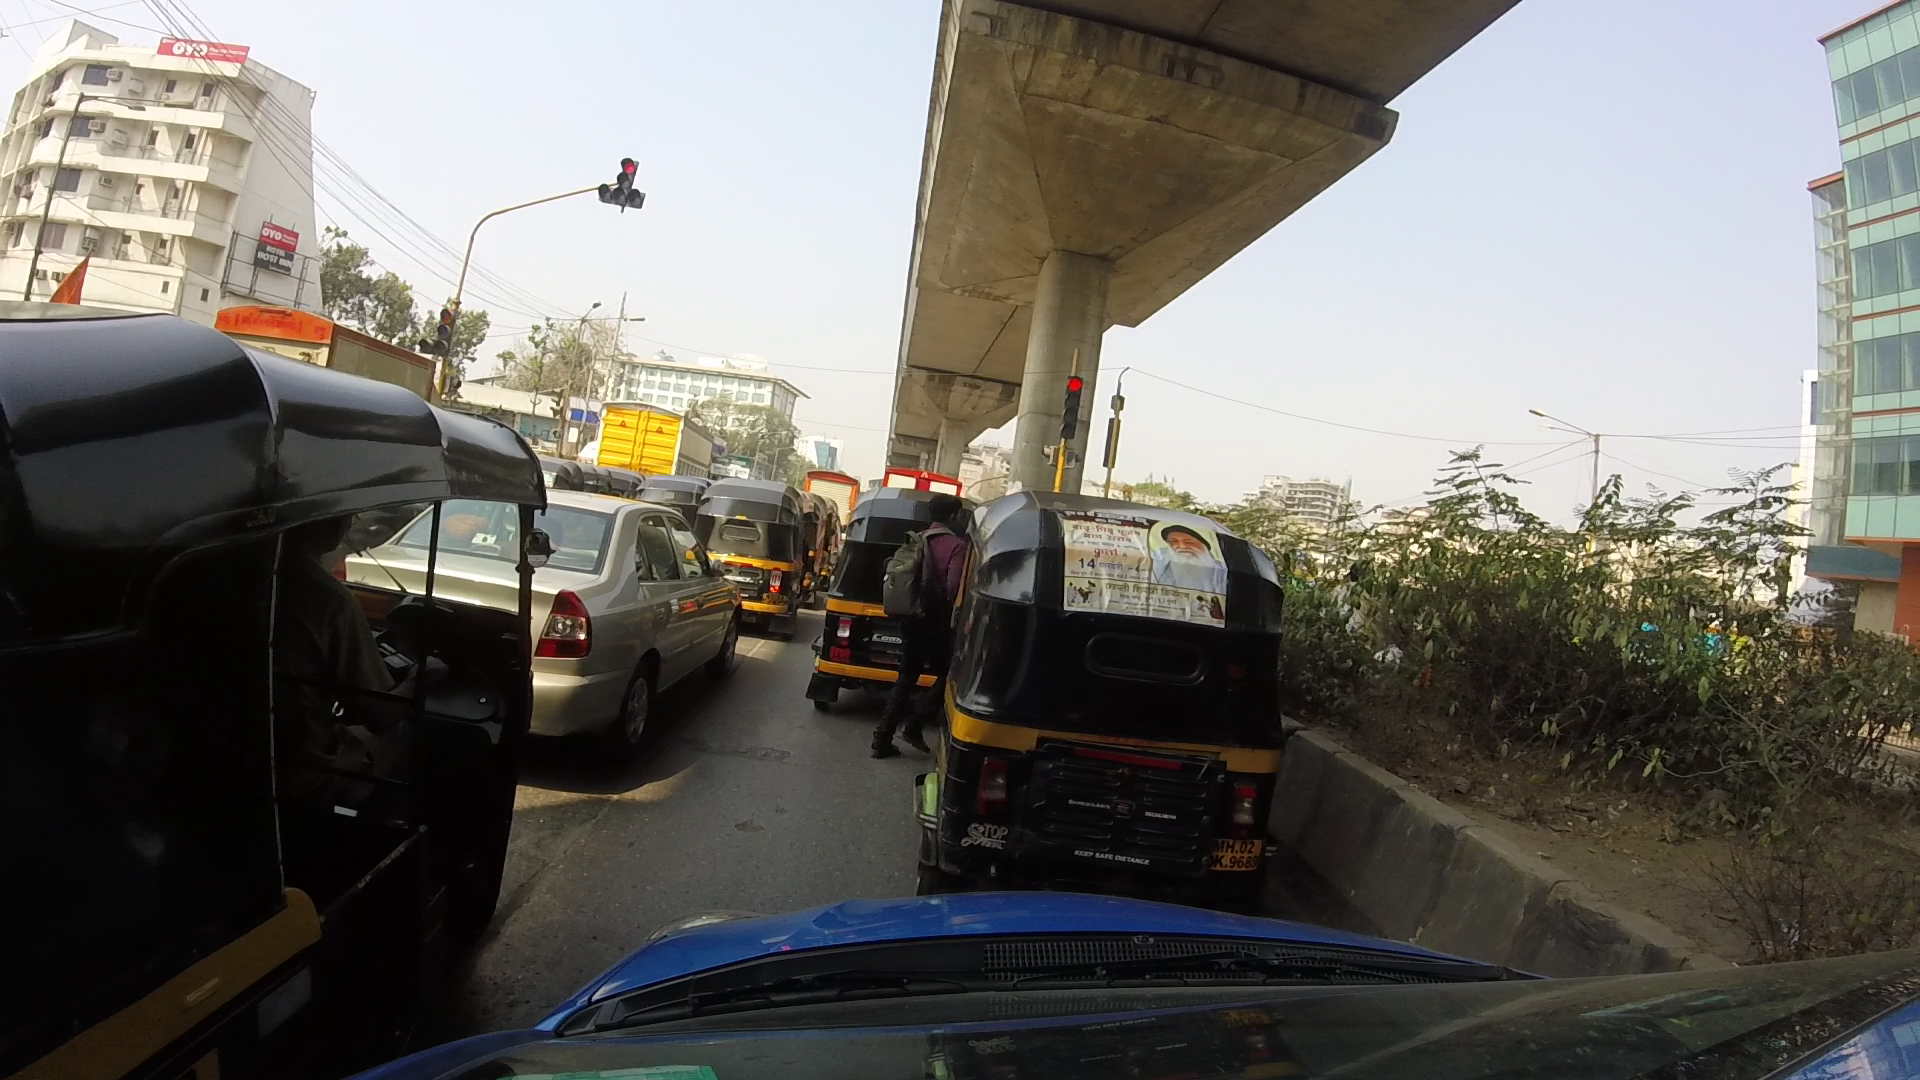car: (355, 480, 731, 771)
rickshaw: (37, 316, 520, 1030), (924, 501, 1275, 872), (828, 477, 981, 698), (694, 475, 810, 638)
truck: (591, 400, 716, 495)
